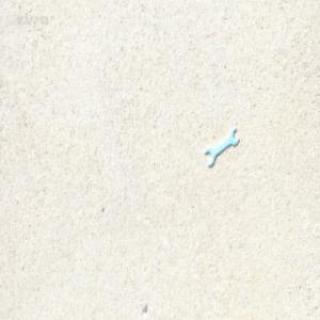Wrenchtrack_idkeyframe: (203, 128, 236, 166)
